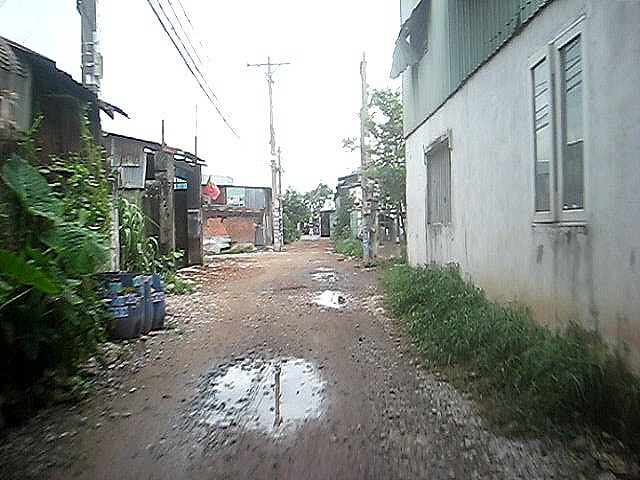hole: (177, 345, 332, 451), (297, 286, 357, 315), (307, 271, 343, 284), (309, 264, 338, 271), (303, 256, 329, 263)
